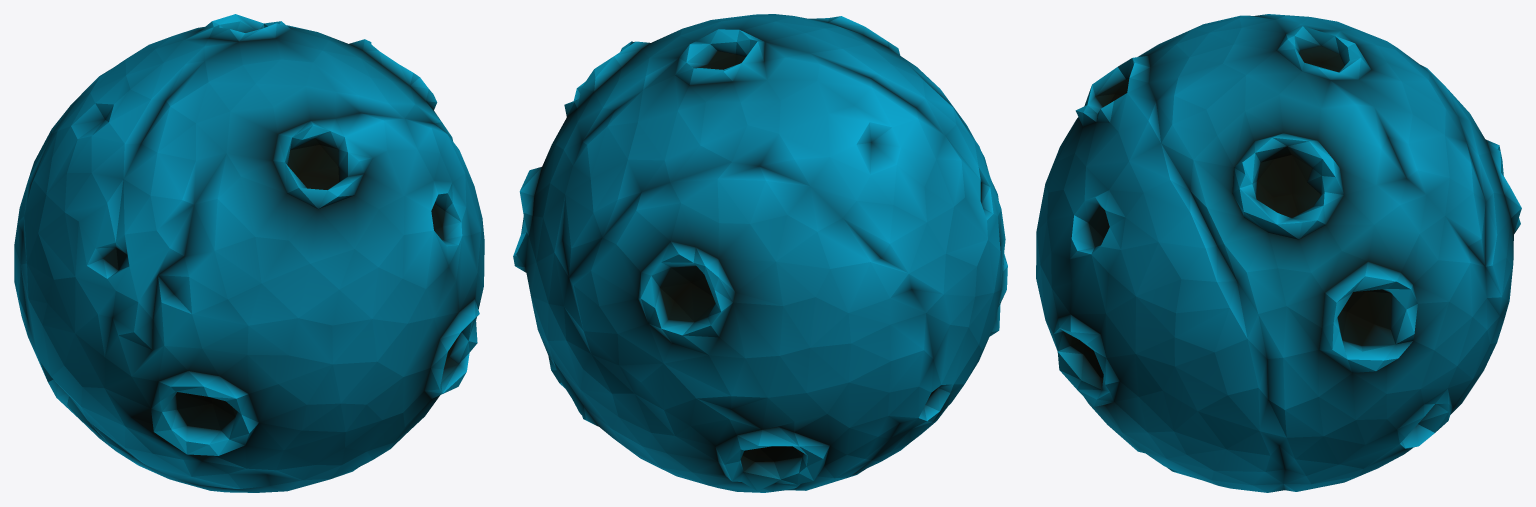
File: moon2.fbx
3 views of the same model, side by side, from view 1: azimuth 30°, elevation 25°; view 2: azimuth 150°, elevation 25°; view 3: azimuth 270°, elevation 25° (orthographic).
Parts seen in each view (by area): view 1: attribblur1; view 2: attribblur1; view 3: attribblur1.
Part boxes in pixels (x1,y1,x2,y2): attribblur1: [14, 14, 484, 492]; attribblur1: [513, 14, 1007, 492]; attribblur1: [1036, 14, 1521, 492].
Bounding box in the file's own units: 0.9782 × 0.9819 × 0.9799.
